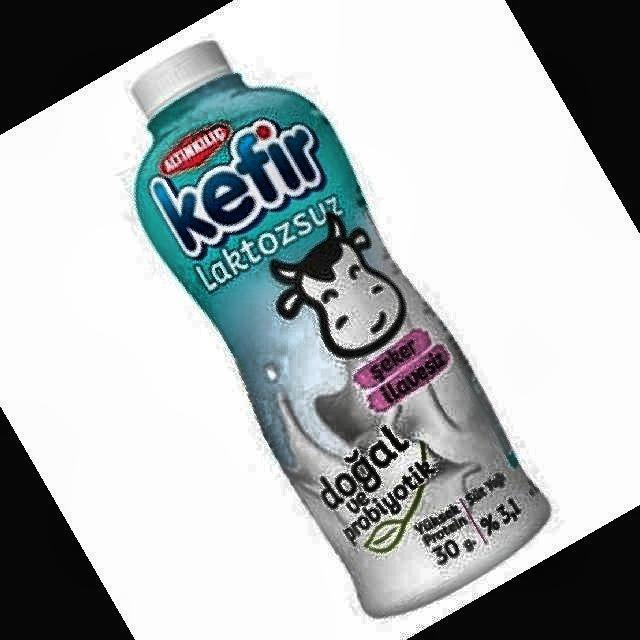plastic: (135, 45, 549, 616)
